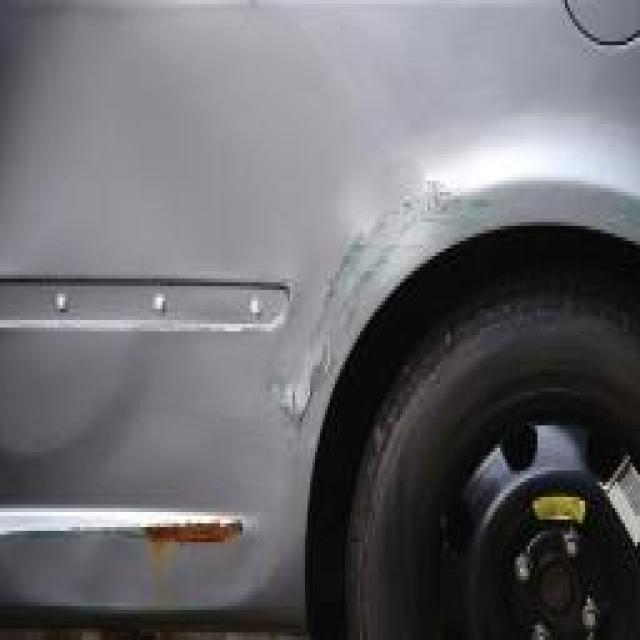Bumper: (0, 452, 290, 629)
Fender: (230, 113, 492, 429)
